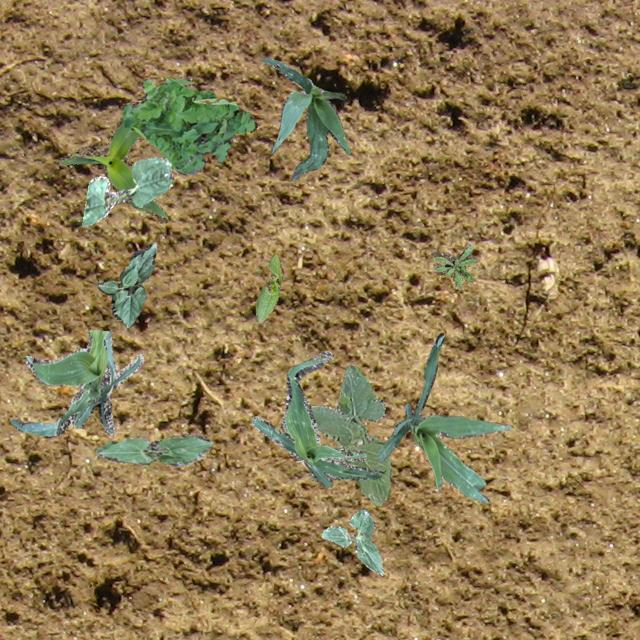crop: (376, 332, 510, 502), (58, 74, 192, 222), (250, 349, 384, 486), (8, 328, 142, 434), (310, 364, 390, 504), (260, 56, 350, 180), (80, 156, 172, 226), (96, 242, 156, 326), (320, 508, 382, 574), (95, 434, 212, 466), (254, 254, 280, 322)
weed: (121, 76, 256, 174), (429, 244, 476, 288)
